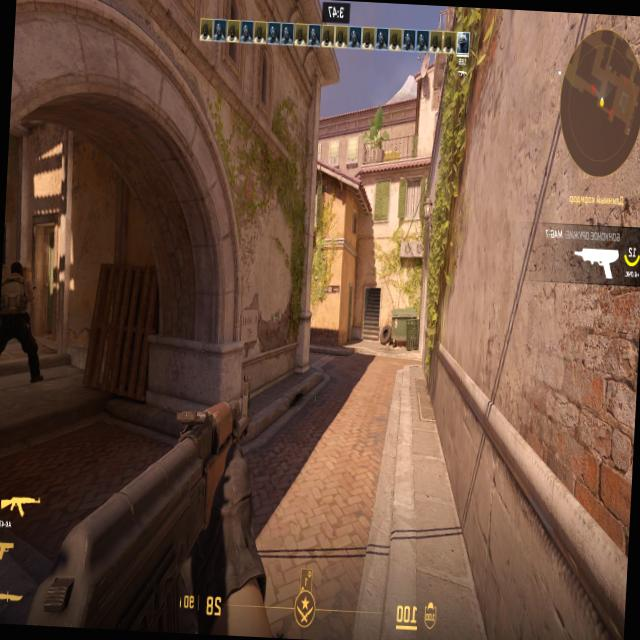T: (2, 260, 26, 344)
T_heat: (14, 268, 22, 282)
